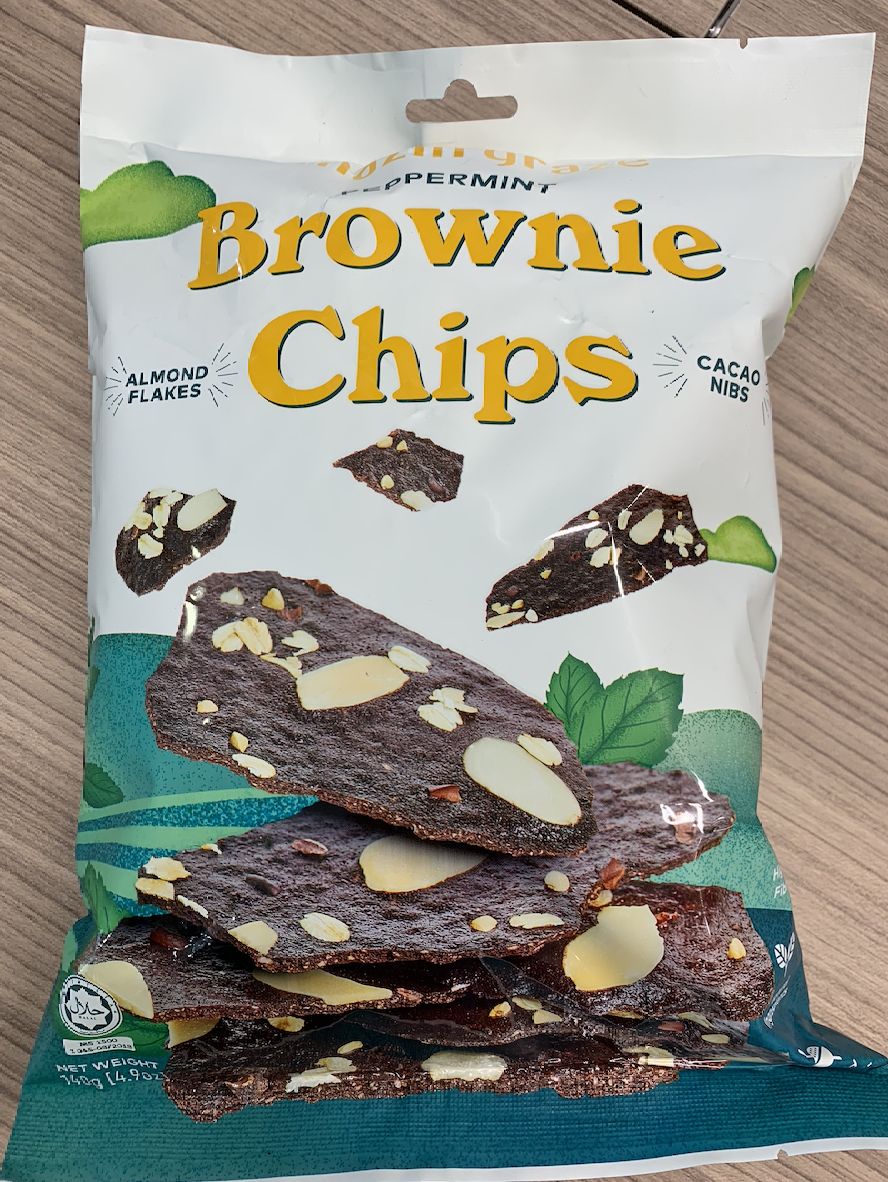cookies_100g-199g: (82, 130, 759, 1110)
